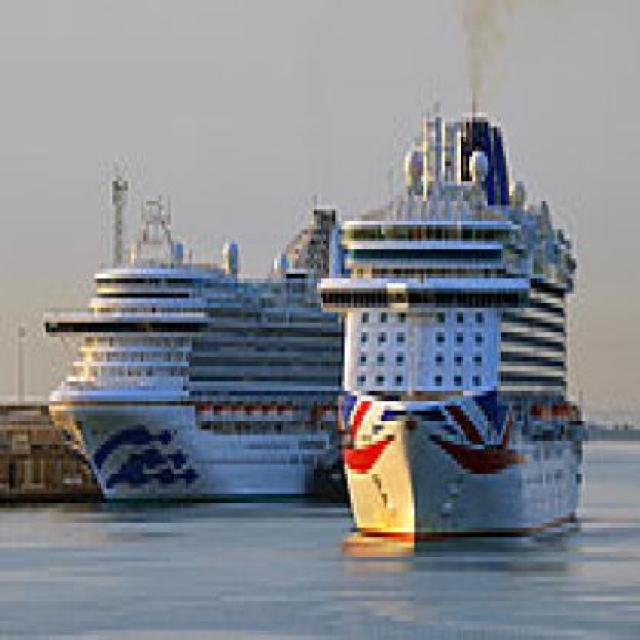cruise: (321, 109, 607, 558), (41, 157, 367, 510)
